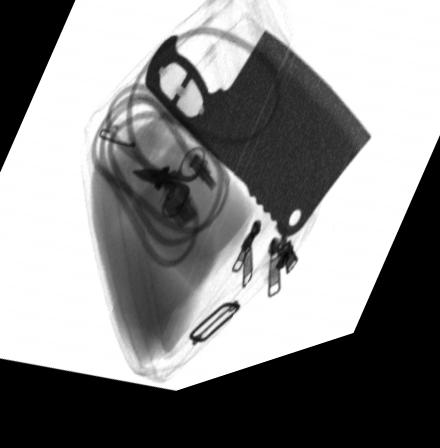Knife: (143, 46, 372, 256)
Scissors: (132, 158, 207, 230)
